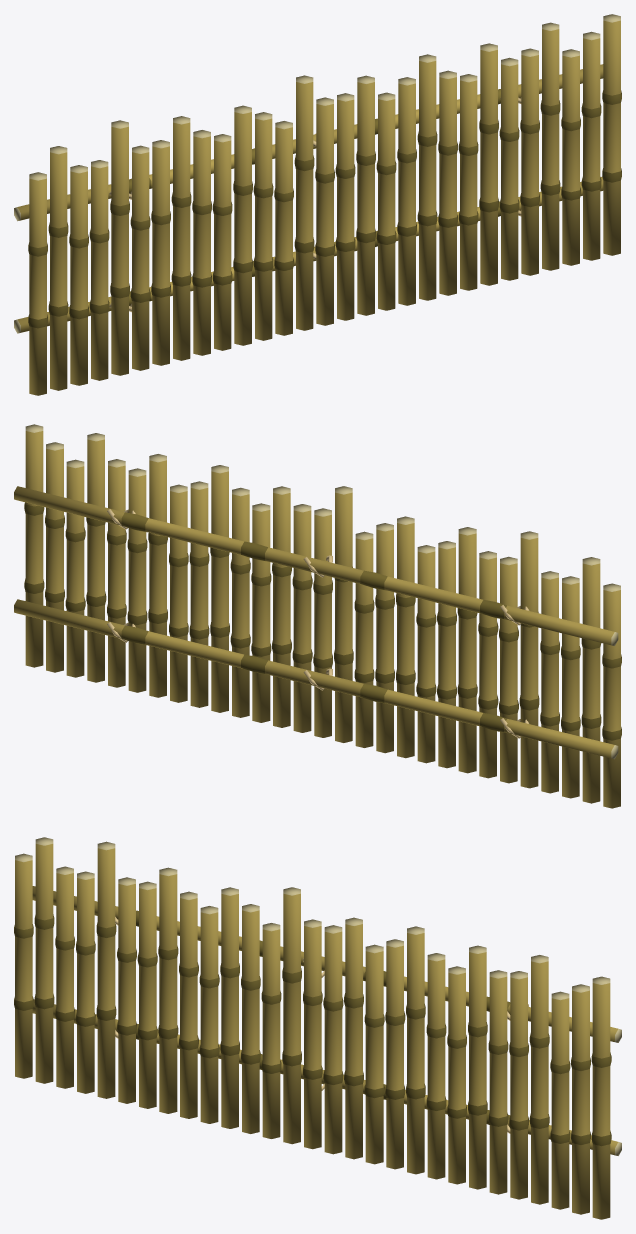
Rendered from bamboo_fence.glb.
3 renders of one model, top to bottom at view 1: azimuth 30°, elevation 25°; view 2: azimuth 150°, elevation 25°; view 3: azimuth 330°, elevation 25°, orthographic.
Visible parts, largest first — view 1: bamboo_fence_mesh; view 2: bamboo_fence_mesh; view 3: bamboo_fence_mesh.
Boxes of the visible parts, bbox=[...] form: bamboo_fence_mesh: bbox=[14, 14, 621, 395]; bamboo_fence_mesh: bbox=[14, 424, 621, 808]; bamboo_fence_mesh: bbox=[14, 837, 621, 1219].
Bounding box in the file's own units: 3.05 × 1.21 × 0.1653.
